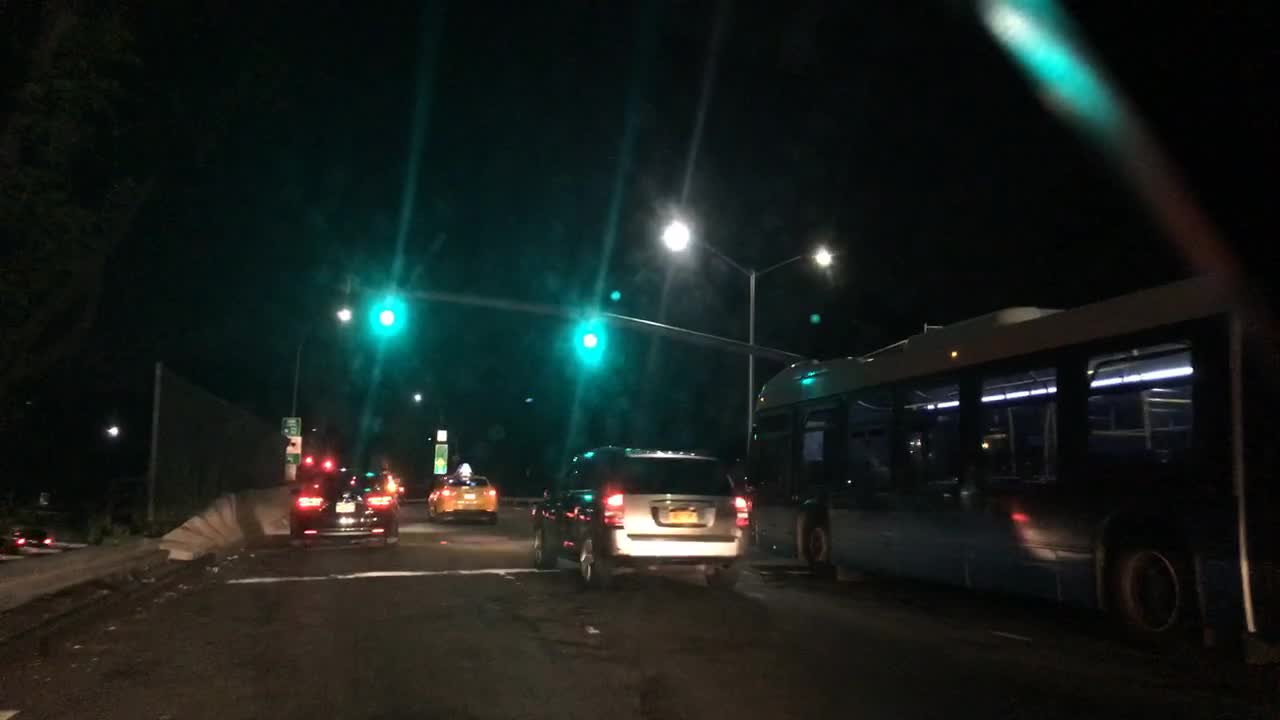bus: (726, 265, 1278, 678)
car: (530, 444, 752, 594), (286, 467, 398, 548), (426, 461, 501, 525), (380, 471, 404, 503)
traffic light: (374, 295, 397, 332), (580, 323, 597, 351), (319, 455, 334, 471), (303, 454, 314, 466)
traffic sign: (4, 524, 58, 550), (280, 415, 300, 436), (434, 444, 445, 474), (284, 437, 301, 455)
